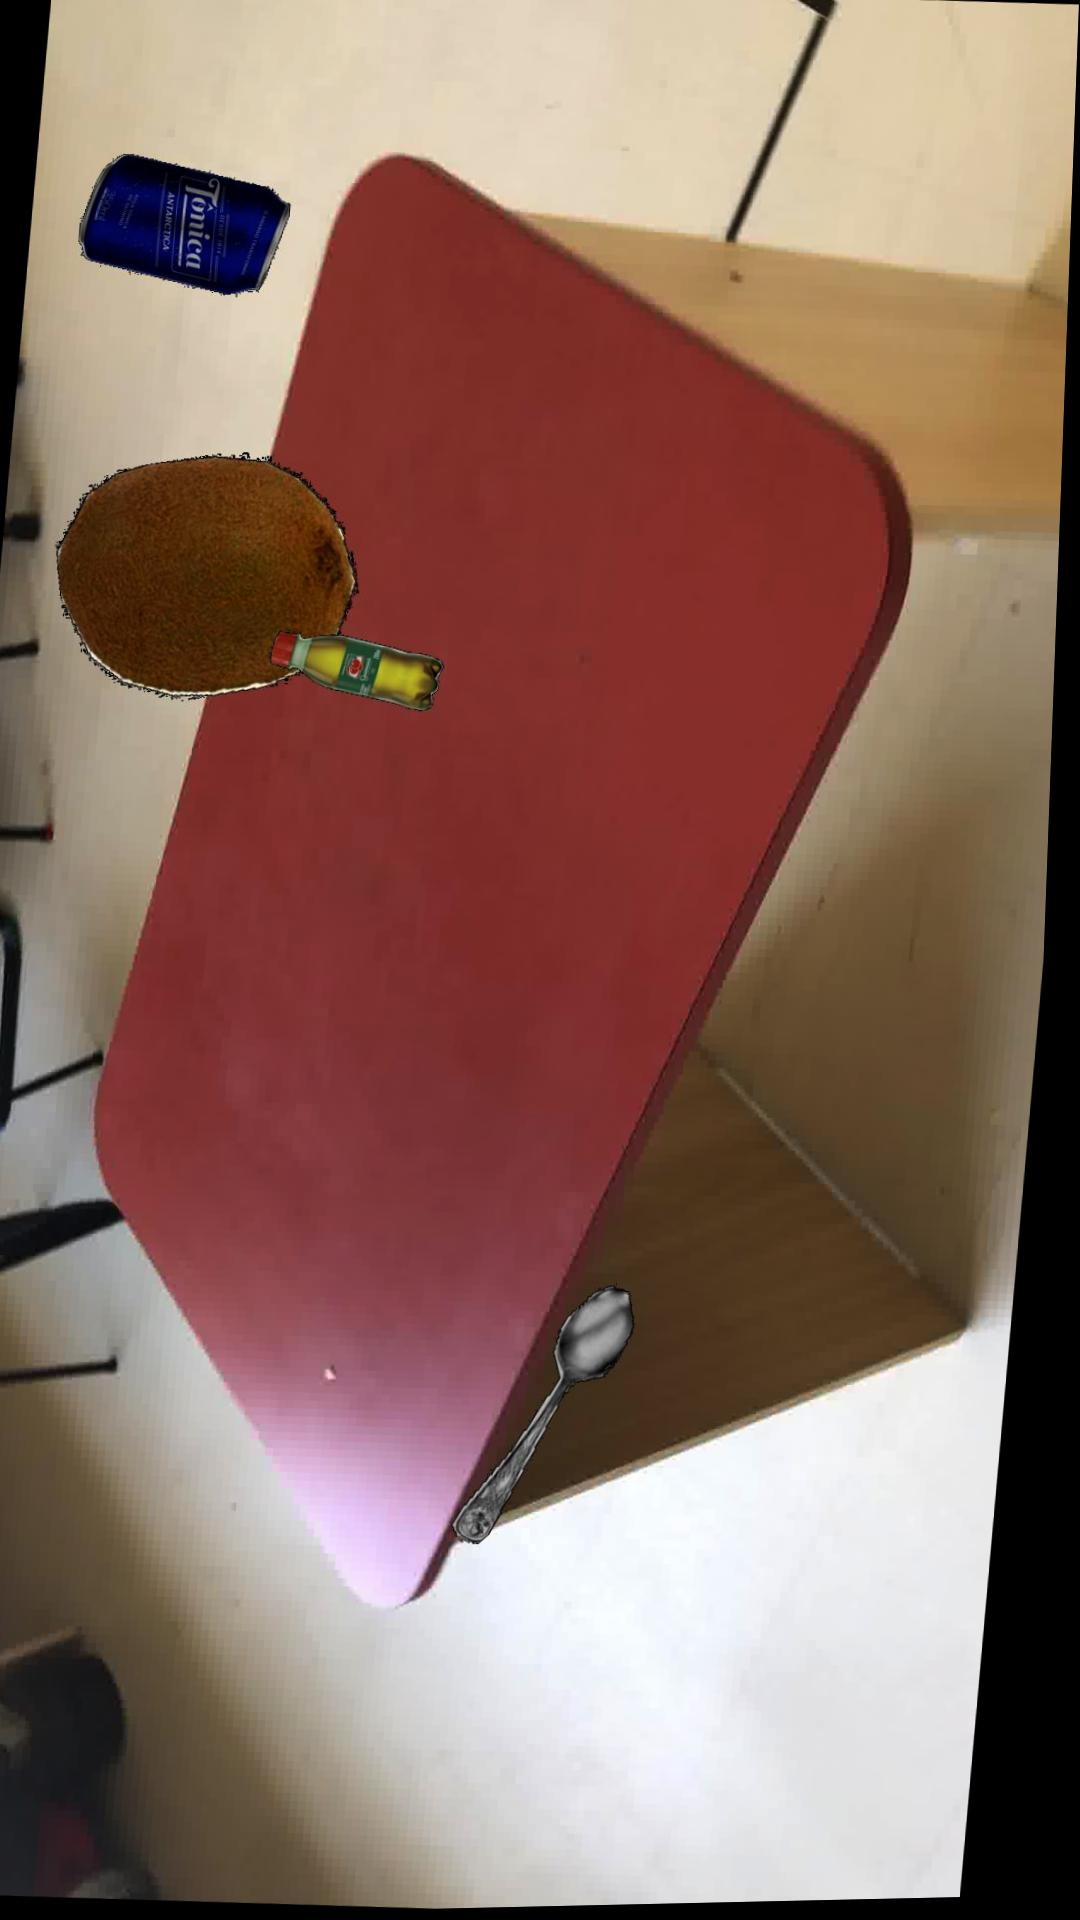guarana: (276, 629, 450, 711)
kiwi: (61, 451, 364, 695)
spoon: (464, 1286, 645, 1544)
tonic: (80, 152, 293, 294)
